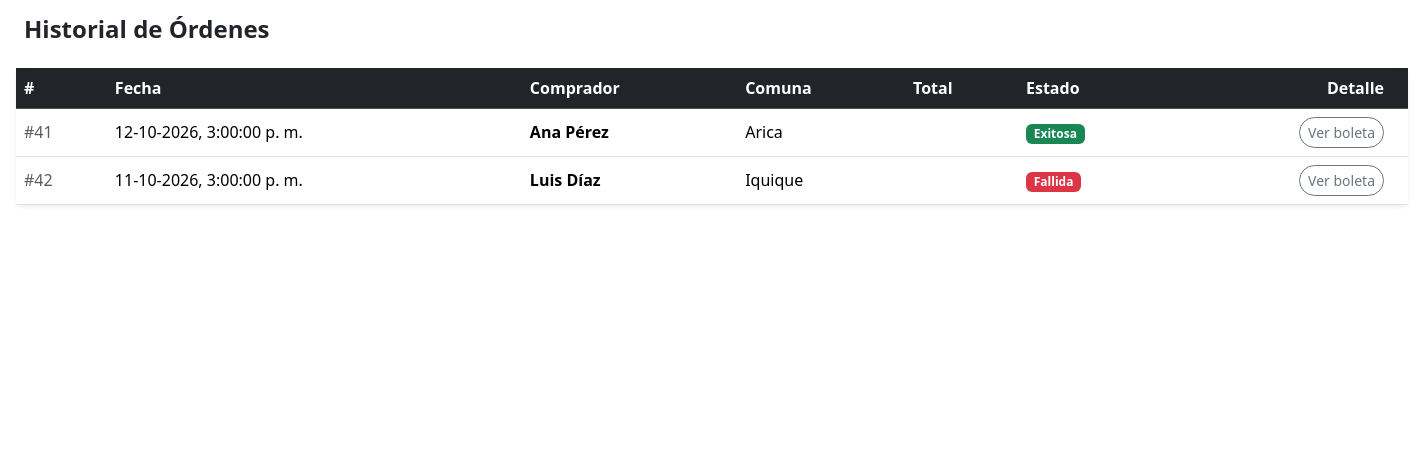
Scenario: AdminOrdenes › al abrir otra vez una boleta ya cargada la muestra de nuevo
Expected: the text "Ana Pérez" is shown, [522, 108, 737, 156]
Click the button "Ver boleta" in the row of "41": (1342, 132) [1299, 117, 1384, 148]
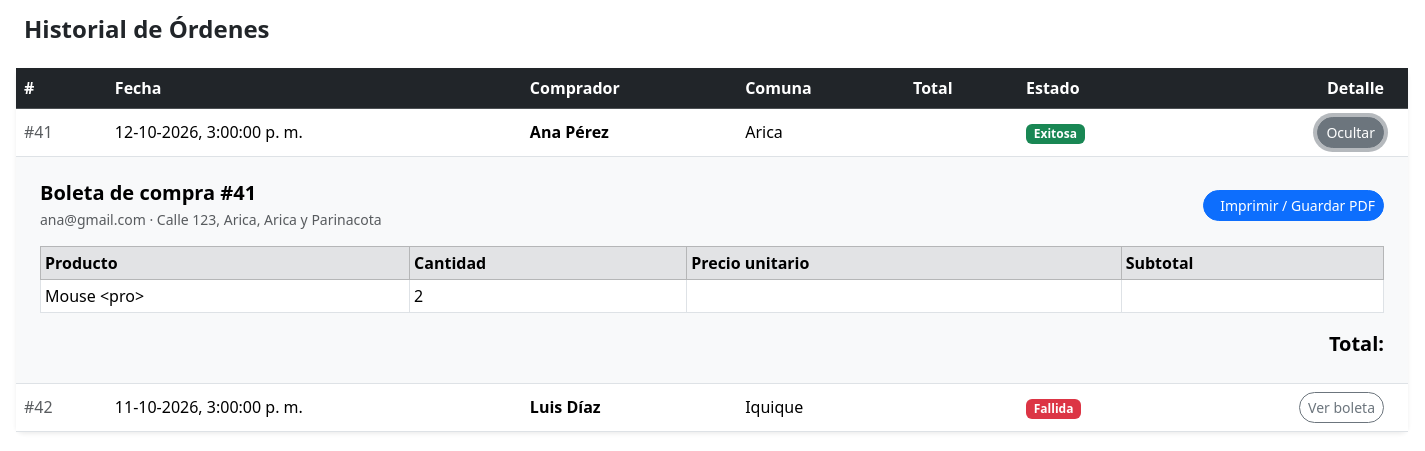
Expected: the heading "Boleta de compra #41" is shown, [40, 179, 256, 206]
Click the button "Ocultar": (1351, 132) [1317, 117, 1384, 148]
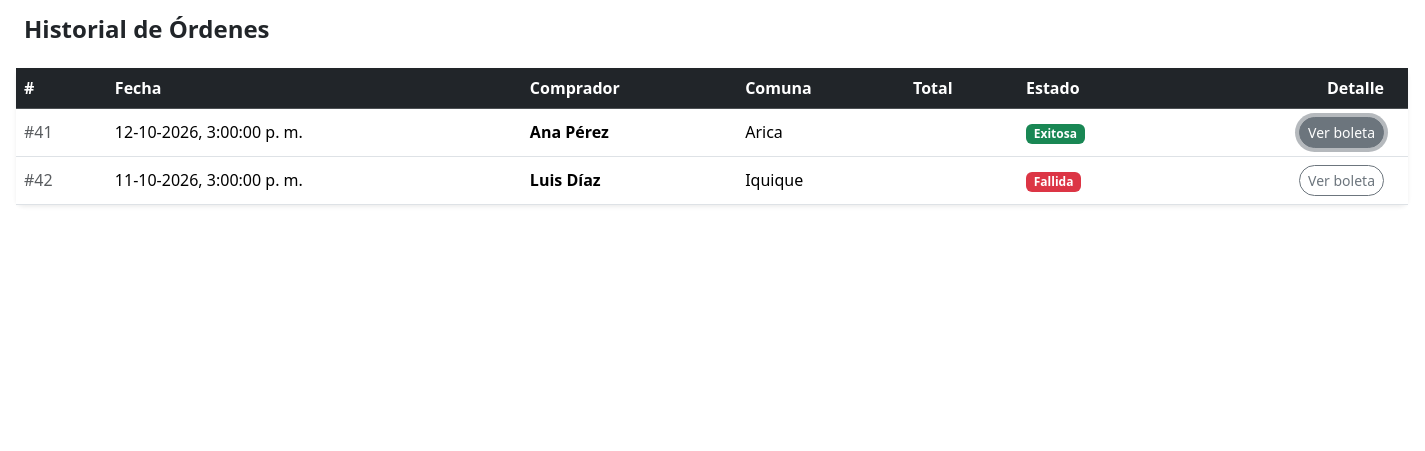
Click the button "Ver boleta" in the row of "41": (1342, 132) [1299, 117, 1384, 148]
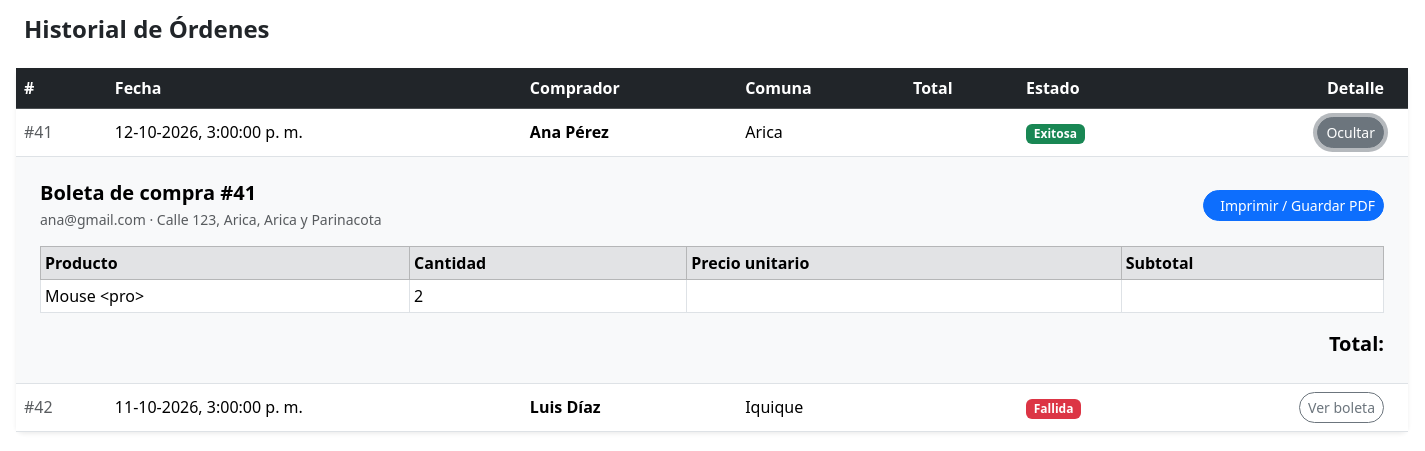
Expected: the heading "Boleta de compra #41" is shown, [40, 179, 256, 206]
Expected: the text "Mouse <pro>" is shown, [40, 279, 410, 312]
